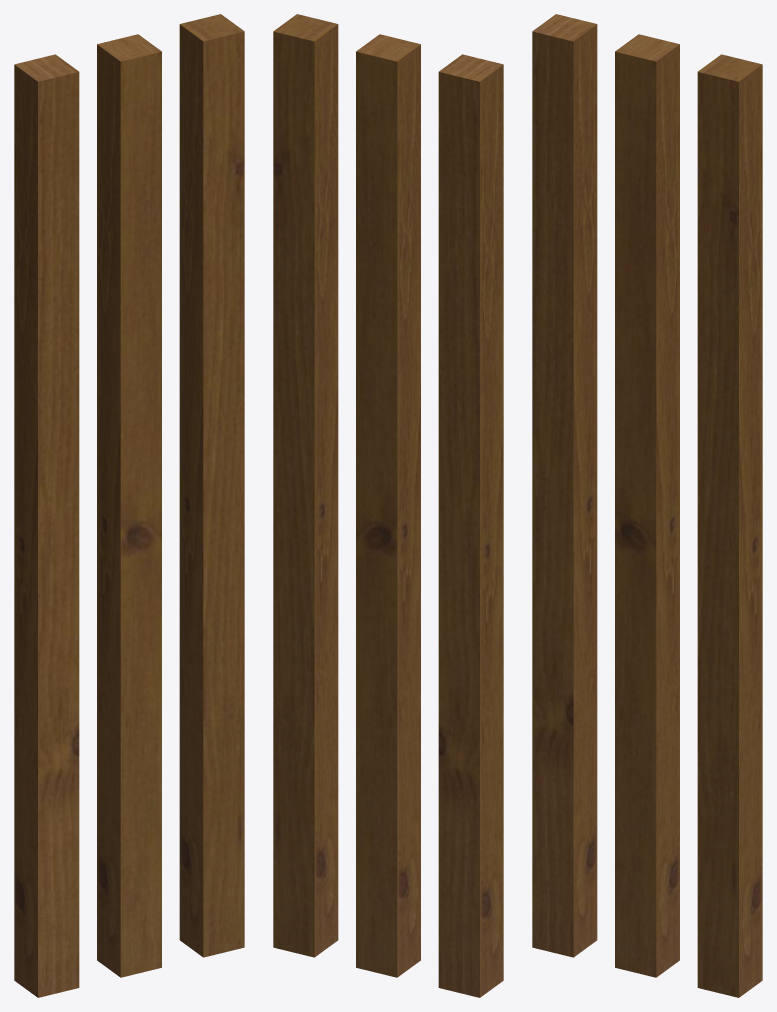
File: eaw-slit-85-3_h1800_naturalpine.fbx
3 views of the same model, side by side, from view 1: azimuth 30°, elevation 25°; view 2: azimuth 150°, elevation 25°; view 3: azimuth 330°, elevation 25° (orthographic).
Parts seen in each view (by area): view 1: eaw-slit-85-3_h1800_naturalpine; view 2: eaw-slit-85-3_h1800_naturalpine; view 3: eaw-slit-85-3_h1800_naturalpine.
Boxes of the visible parts, left/top/right/bottom form: eaw-slit-85-3_h1800_naturalpine: left=14, top=14, right=244, bottom=997; eaw-slit-85-3_h1800_naturalpine: left=273, top=14, right=503, bottom=997; eaw-slit-85-3_h1800_naturalpine: left=532, top=14, right=762, bottom=997.
Bounding box in the file's own units: 42.5 × 180 × 8.5.
1 material, 1 textured.
